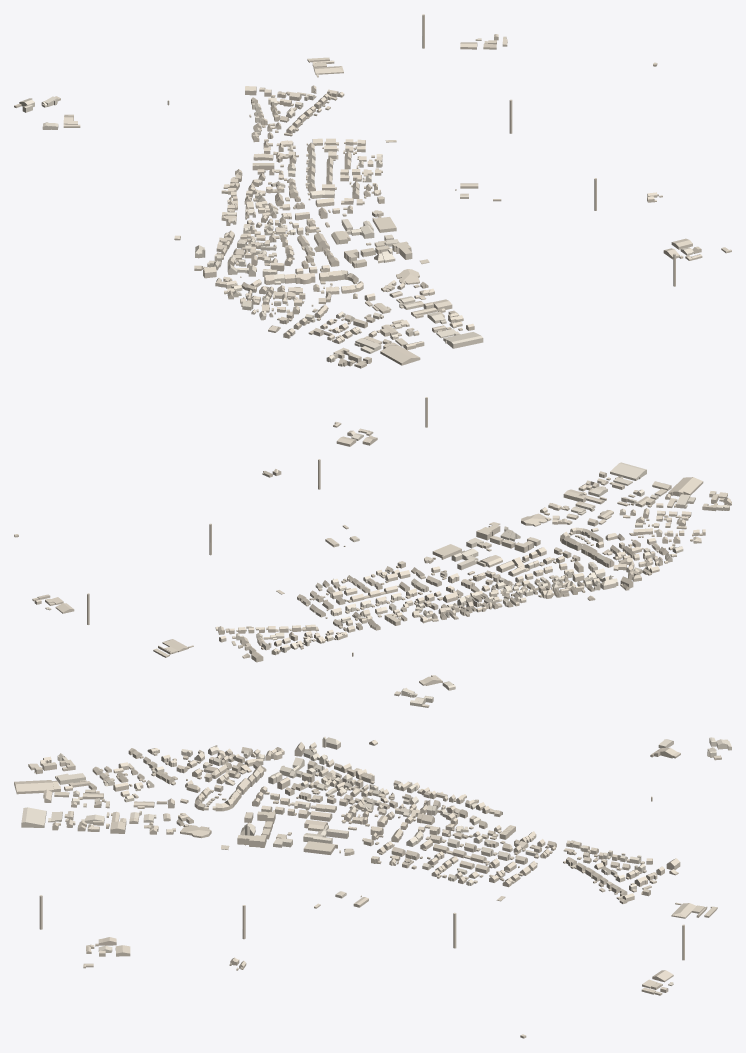
The picture shows the model from 3 angles, top to bottom: view 1: azimuth 30°, elevation 25°; view 2: azimuth 150°, elevation 25°; view 3: azimuth 270°, elevation 25°; orthographic projection. The views are drawn at different scales.
Size of the model in its own units: 1187 by 68.13 by 1251.
